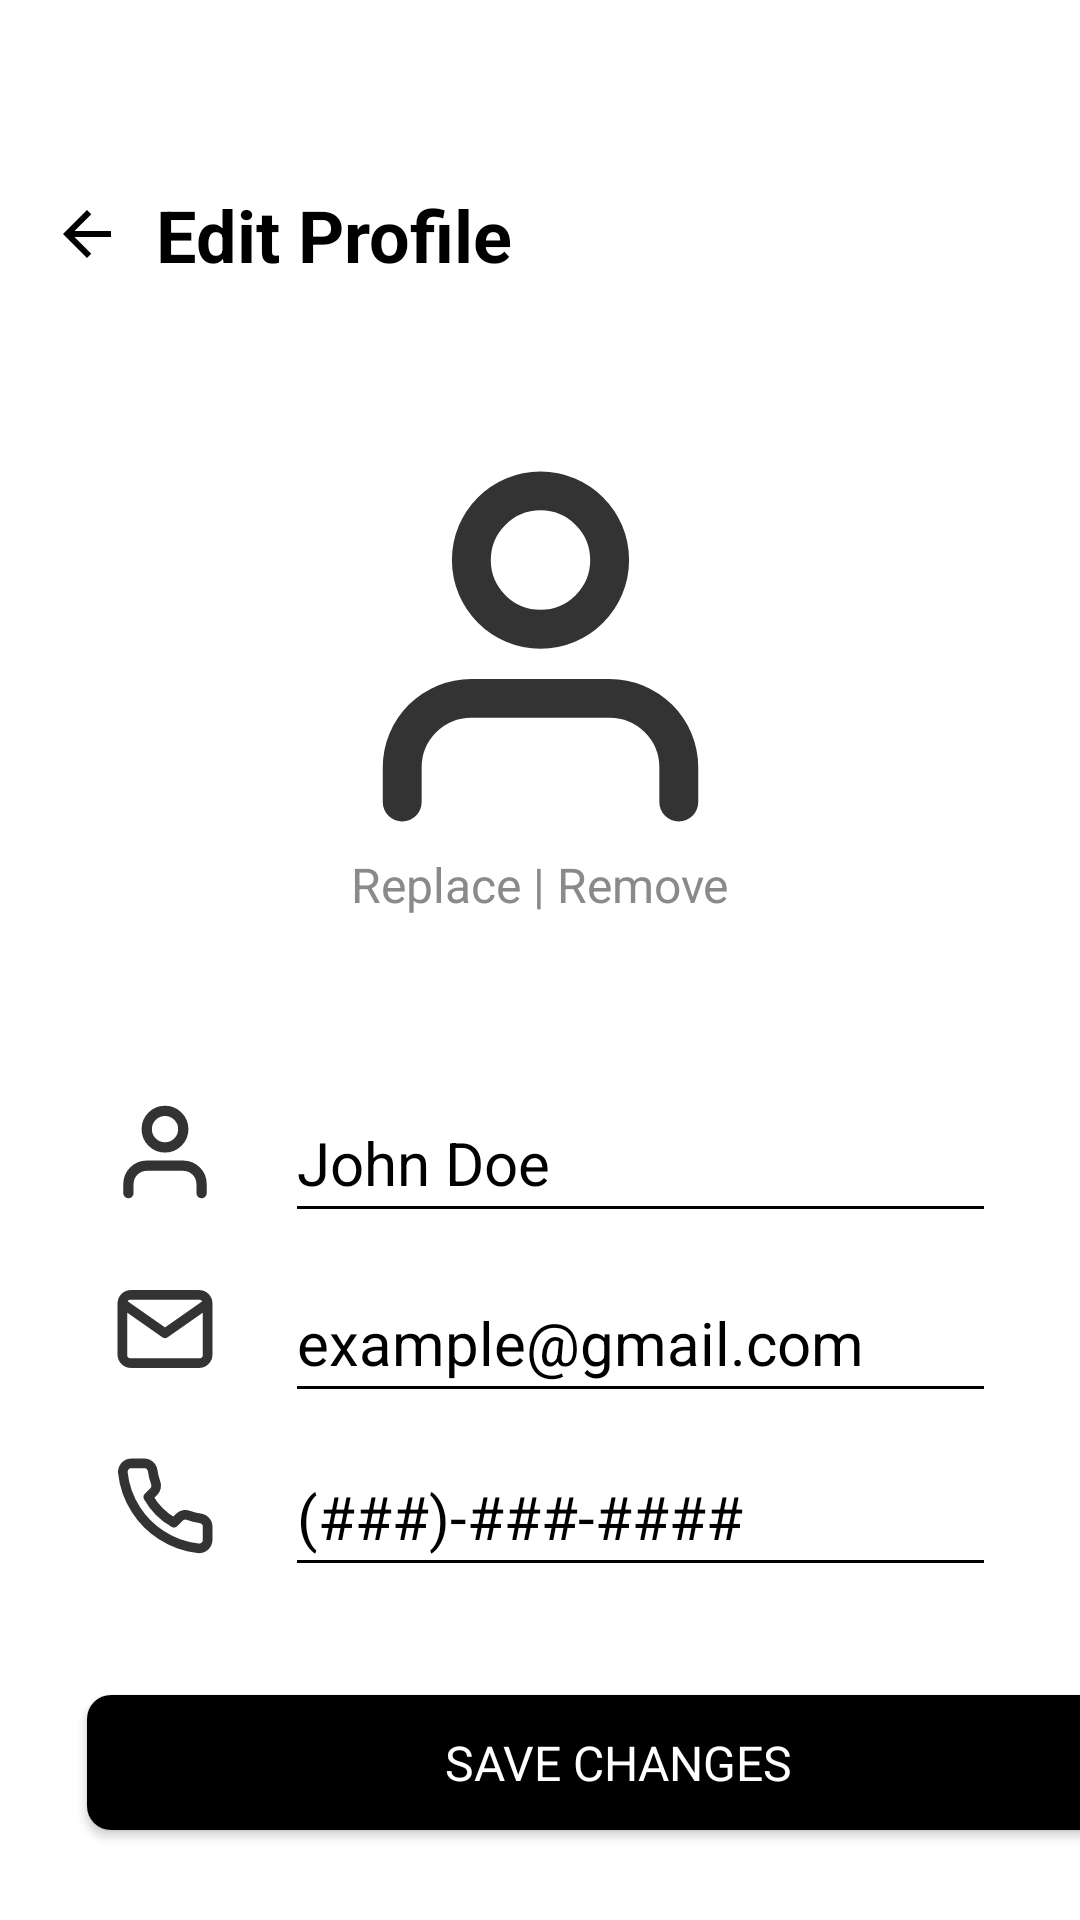

Where to tap for icons on this 1080px×1920px app screen, as (x,y):
Back: (87,234)
email: (165,1329)
phone: (165,1506)
user: (540,646), (165,1152)
